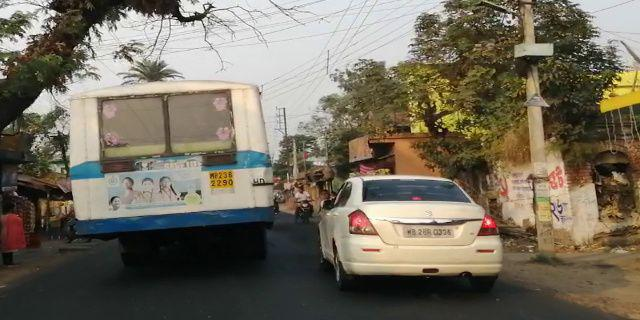Bus: (58, 82, 284, 265)
Car: (313, 175, 510, 295)
Motorbike: (289, 185, 314, 229)
